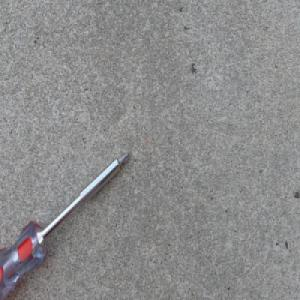Screwdriver: (0, 150, 132, 300)
